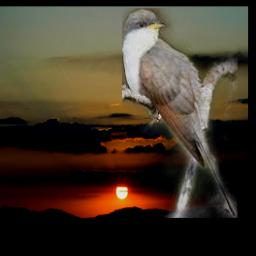Cuckoo: (123, 9, 239, 219)
